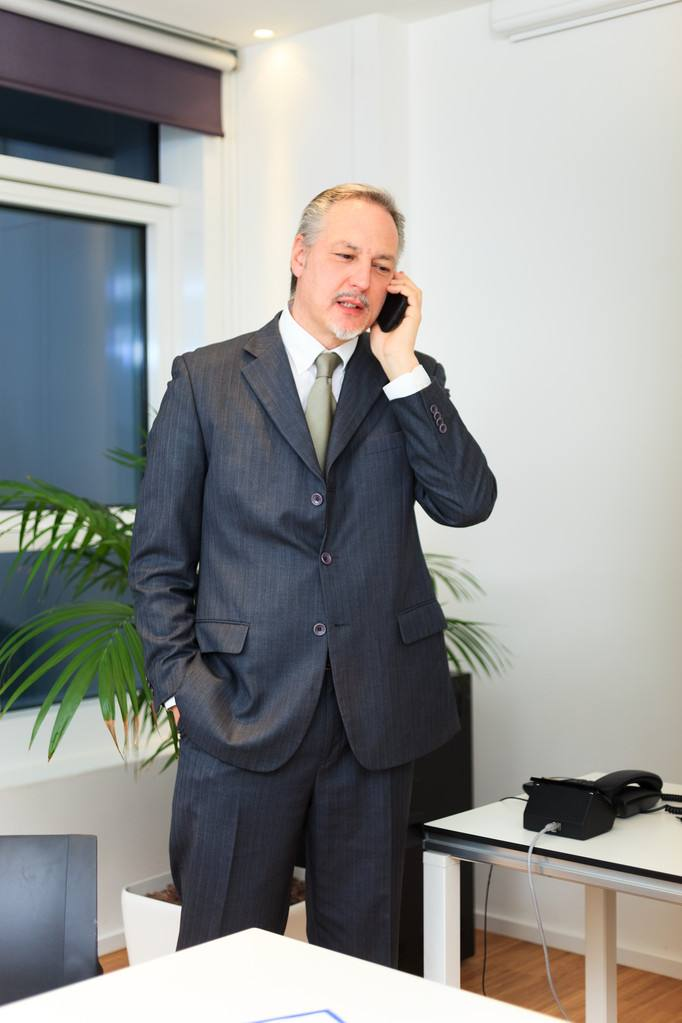calling: (365, 265, 424, 359)
